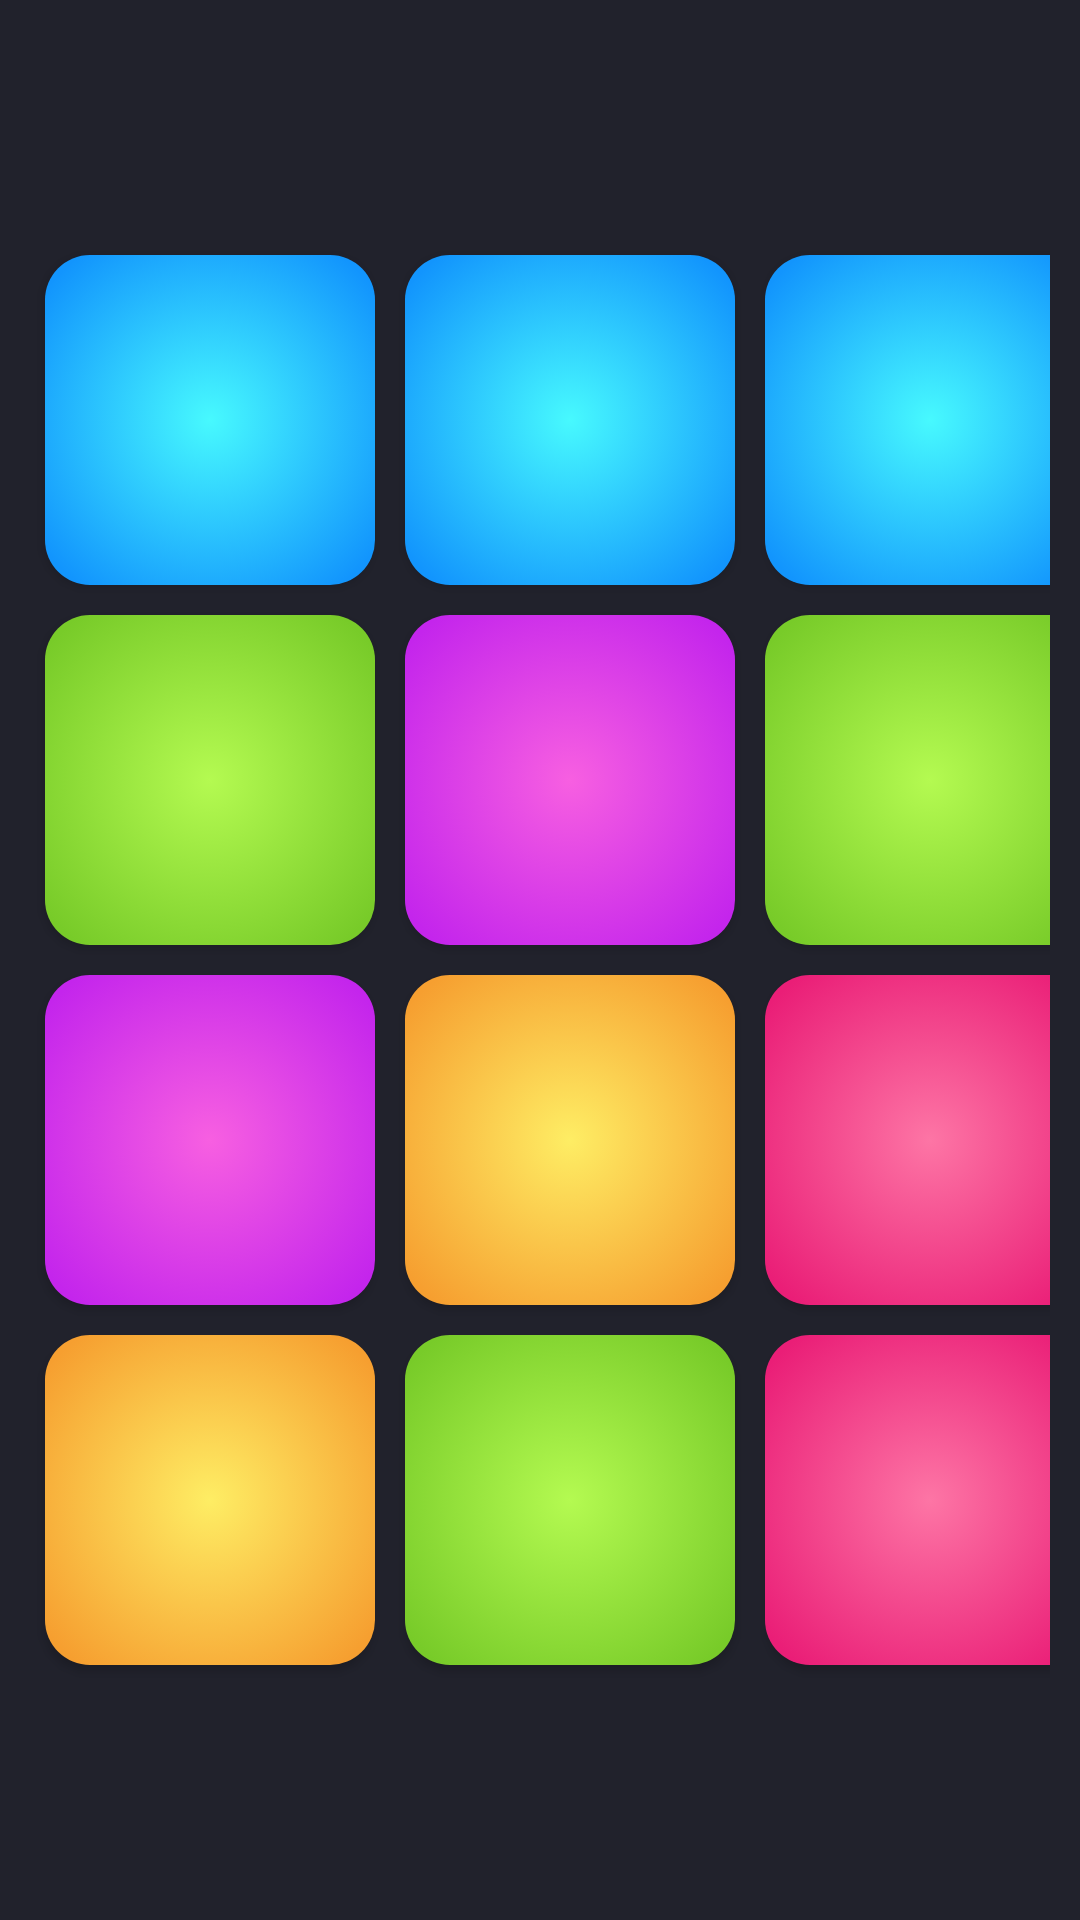

Point at icon controls on the screen. Image size 1080*1920, points as [x,y].
puprple pad: [570,780], [210,1140]
